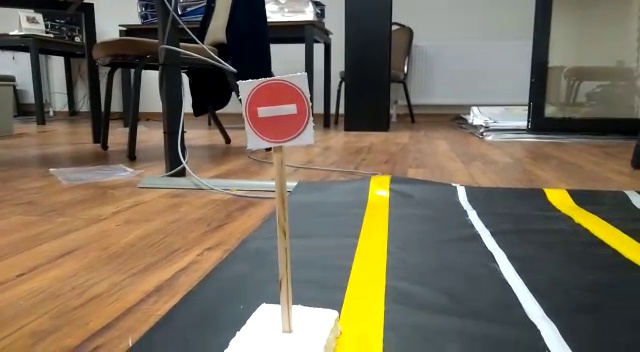girisi_olmayan_yol: (242, 76, 313, 143)
